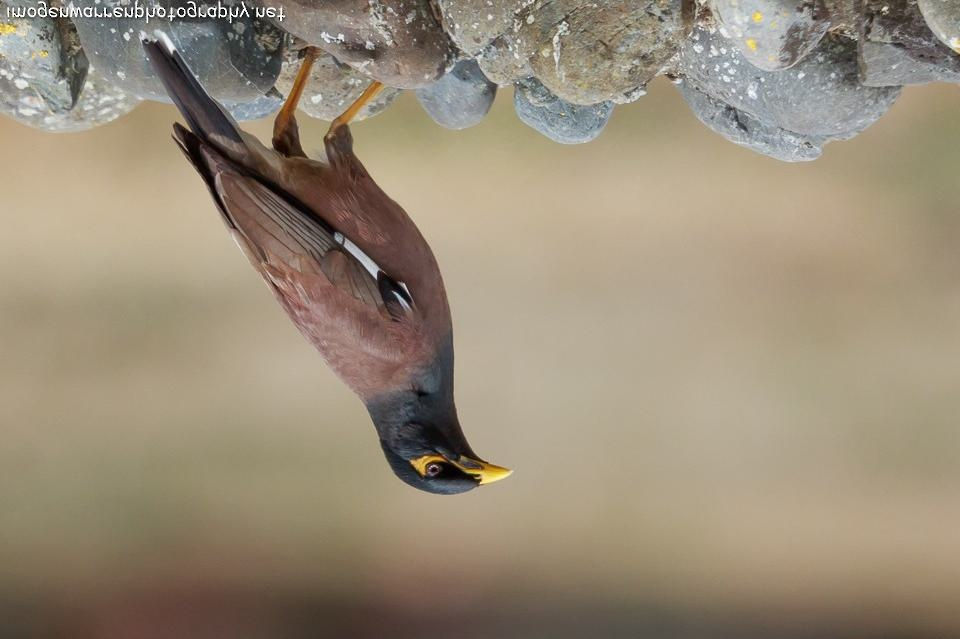myna: (200, 31, 507, 520)
